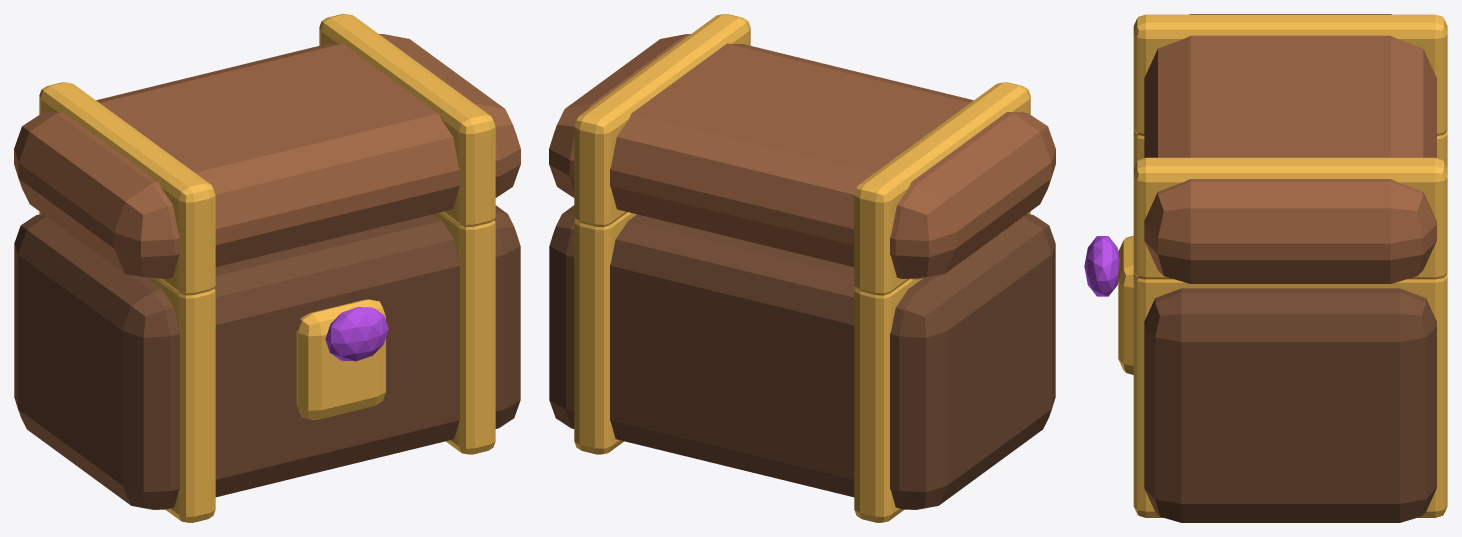
File: chest.glb
3 renders of one model, left to right at view 1: azimuth 30°, elevation 25°; view 2: azimuth 150°, elevation 25°; view 3: azimuth 270°, elevation 25°, orthographic. The views are drawn at different scales.
Visible parts, largest first — view 1: ChestMesh, LidMesh; view 2: ChestMesh, LidMesh; view 3: LidMesh, ChestMesh.
Part boxes in pixels (x1=…): ChestMesh: x1=14, y1=205, x2=520, y2=522; LidMesh: x1=14, y1=14, x2=520, y2=295; ChestMesh: x1=549, y1=205, x2=1055, y2=522; LidMesh: x1=549, y1=14, x2=1055, y2=295; LidMesh: x1=1133, y1=14, x2=1447, y2=283; ChestMesh: x1=1084, y1=129, x2=1447, y2=522.
Bounding box in the file's own units: 1.58 × 1.26 × 1.18.
